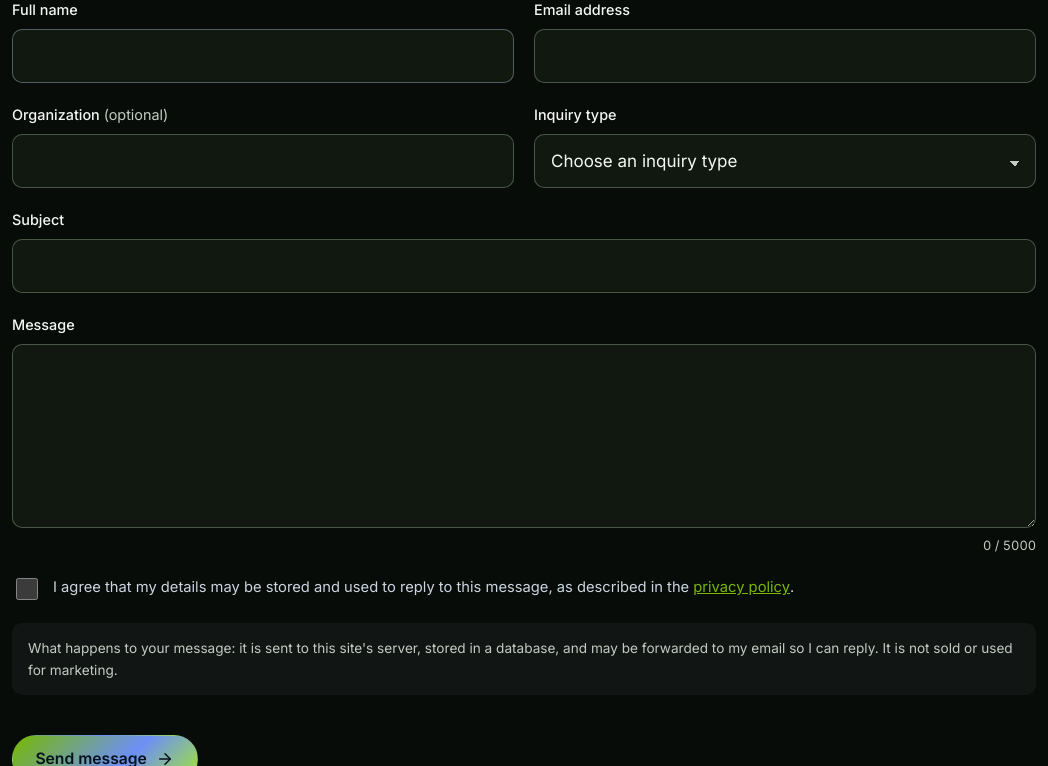
ContactForm submission › shows a loading state, prevents duplicate submits, then shows the server reference
Later steps or results of the test are not shown.
Type "  Alex Morgan " into the field labelled "Full name" at coordinates (263, 56), box [12, 29, 514, 83]
Type "alex@example.com" into the field labelled "Email address" at coordinates (785, 56), box [534, 29, 1036, 83]
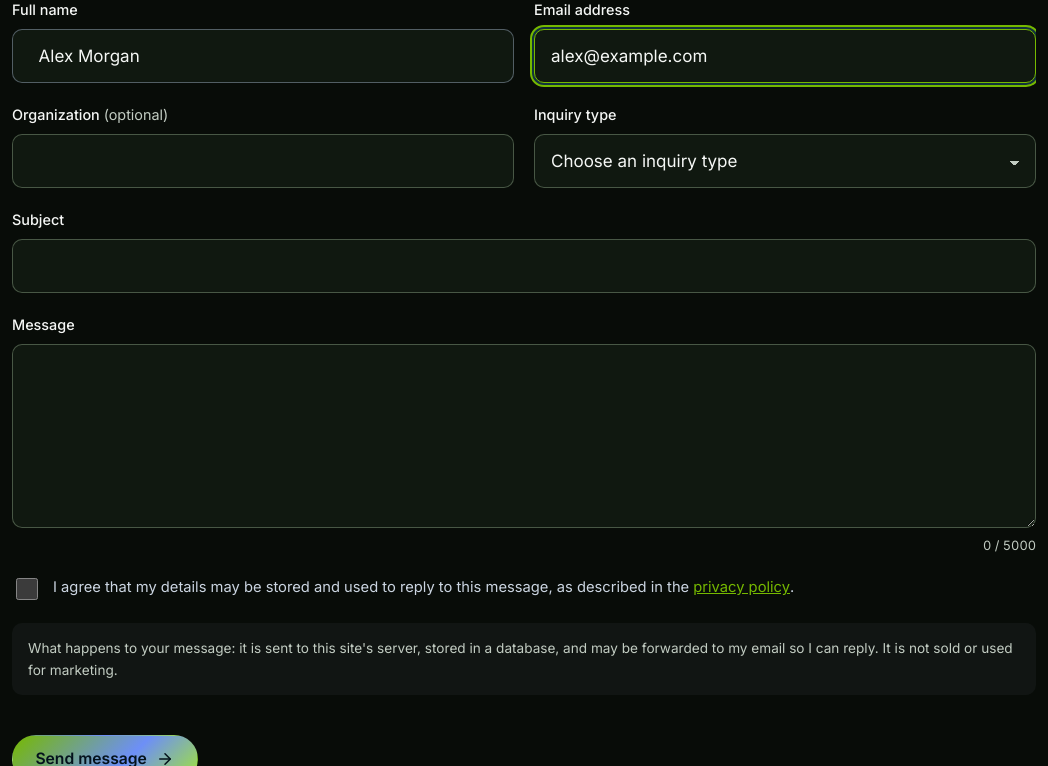
Select "Collaboration" in the dropdown labelled "Inquiry type" at coordinates (785, 161), box [534, 134, 1036, 188]
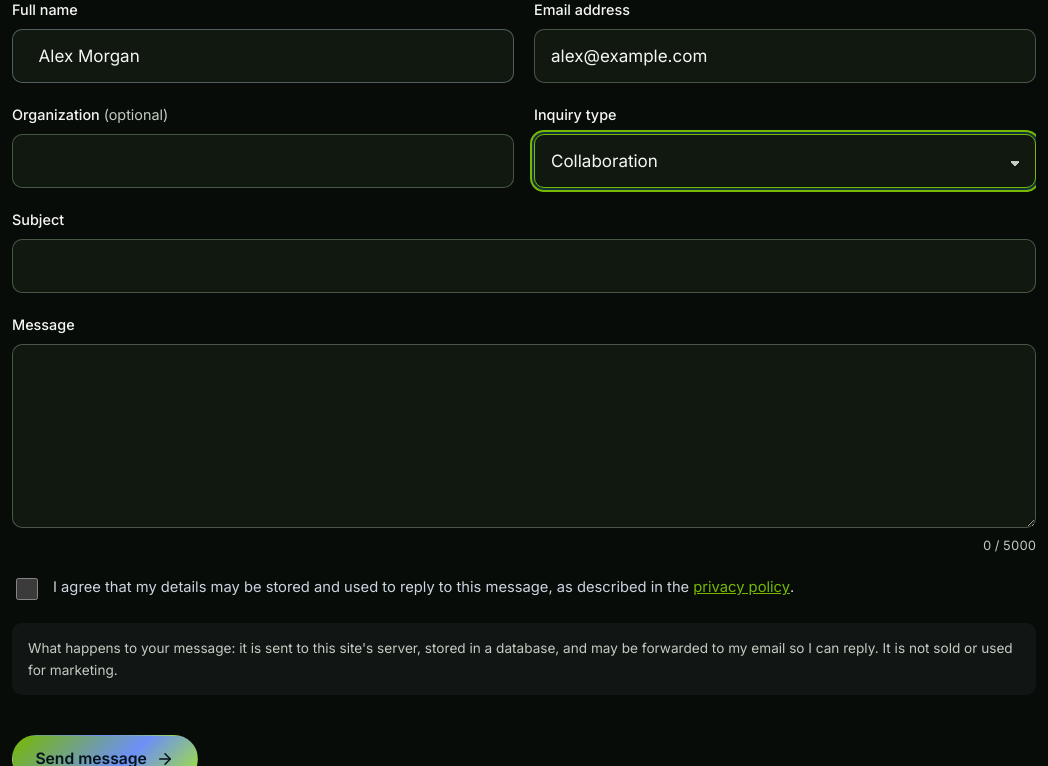
Type "Working together" into the field labelled "Subject" at coordinates (524, 266), box [12, 239, 1036, 293]
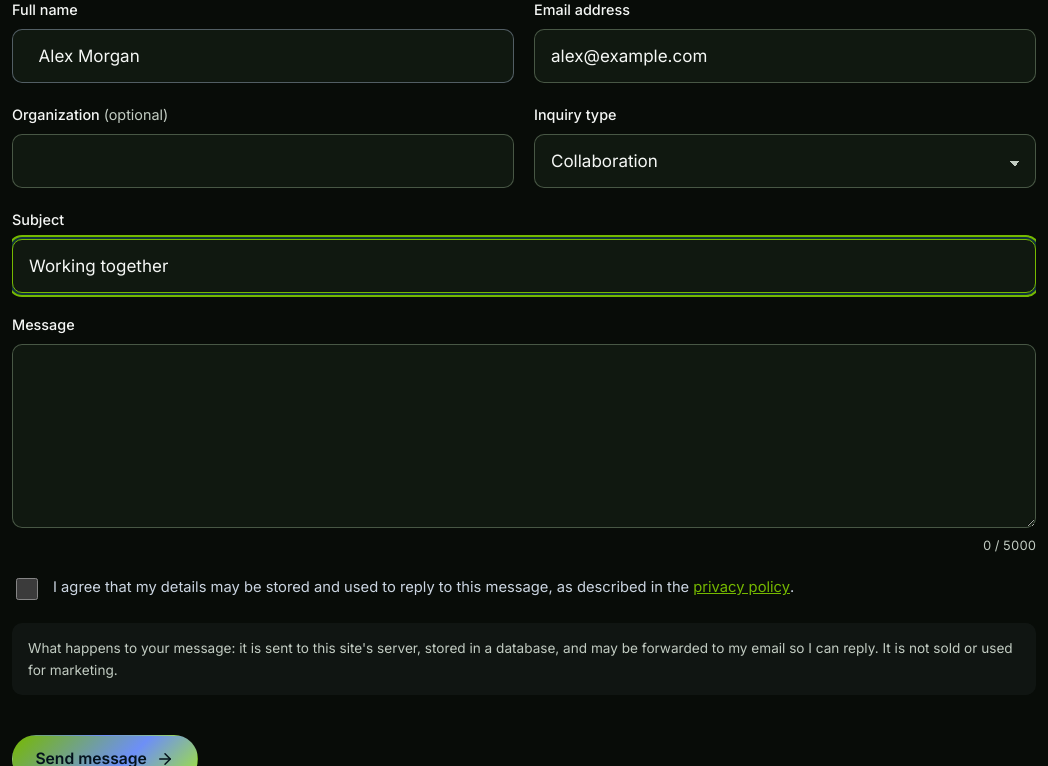
Type "I would like to discuss a collaboration." into the text box labelled "Message" at coordinates (524, 436), box [12, 344, 1036, 528]
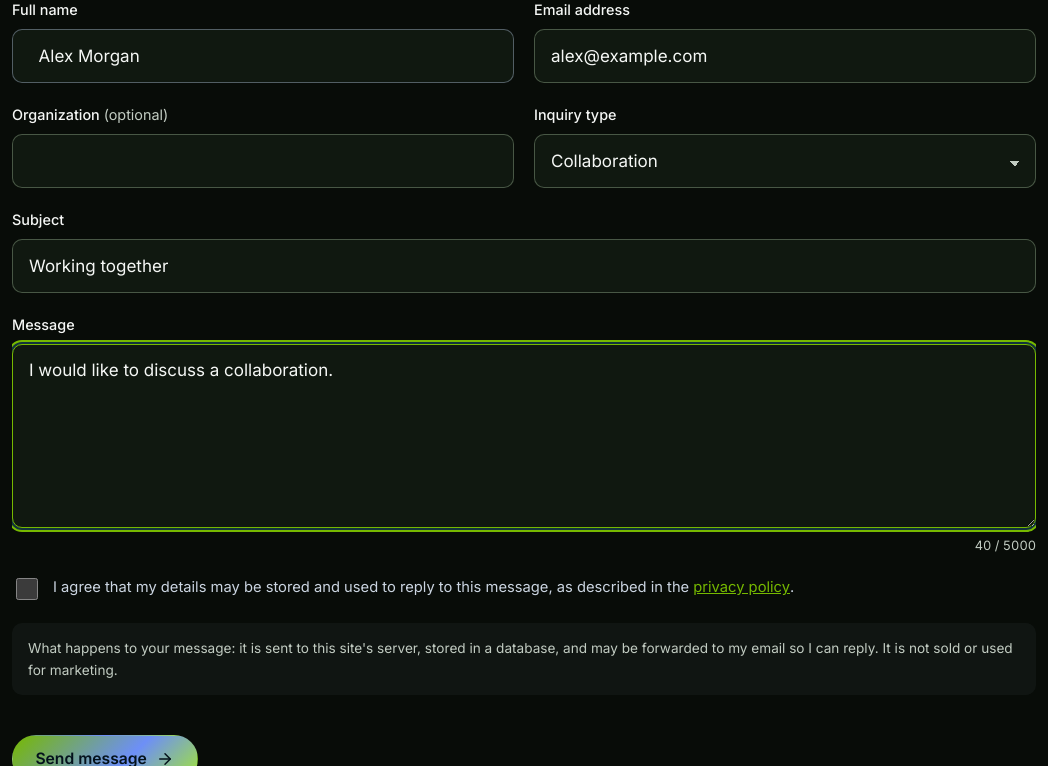
Click the checkbox labelled "I agree" at coordinates (27, 589), box [16, 578, 38, 600]
(page scrolled)
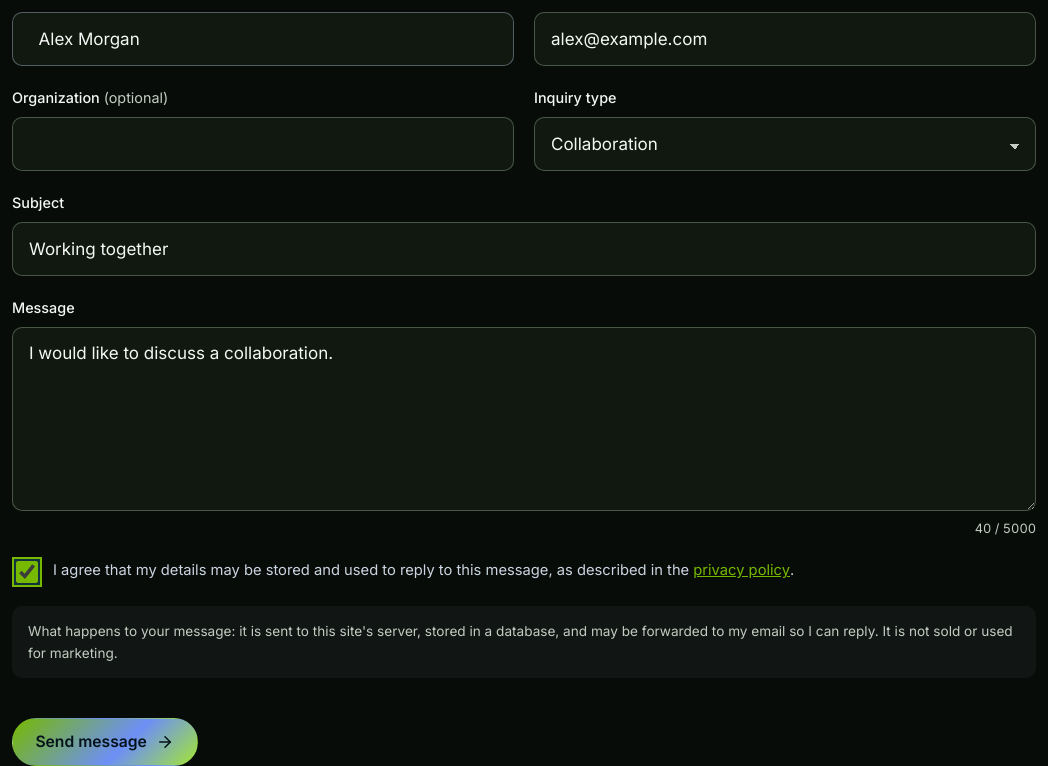
Double-click the button "Send message" at coordinates (105, 742), box [12, 718, 198, 765]
(page scrolled)
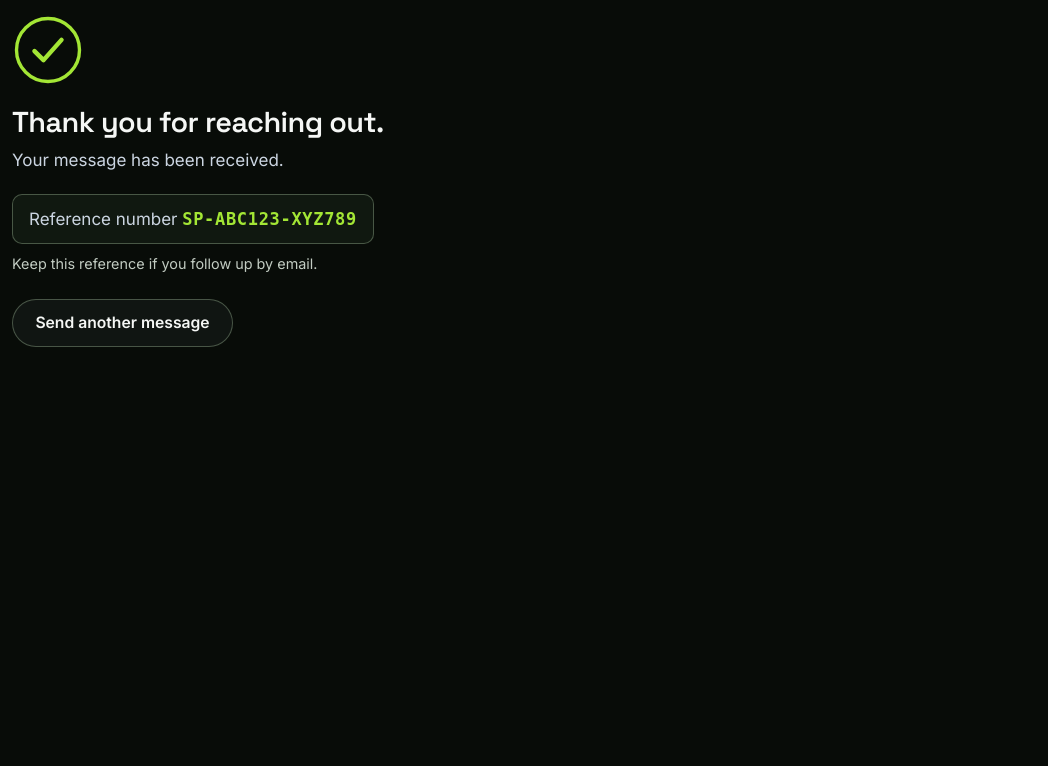
Expected: the heading "Thank you for reaching out." is shown, [12, 106, 384, 138]
Expected: the text "Your message has been received." is shown, [12, 146, 284, 174]
Expected: the text "SP-ABC123-XYZ789" is shown, [182, 209, 357, 229]
